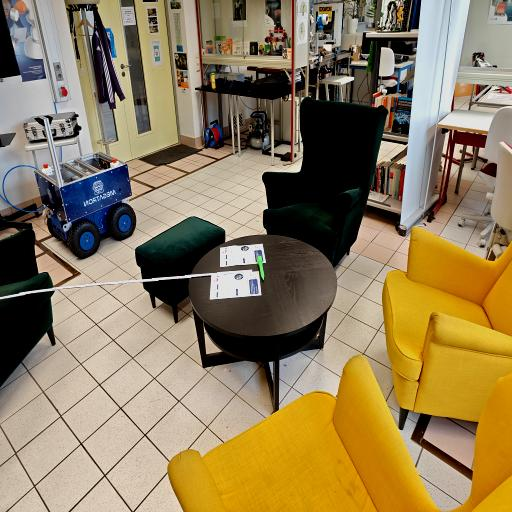Probe-Detection: (257, 254, 264, 280)
